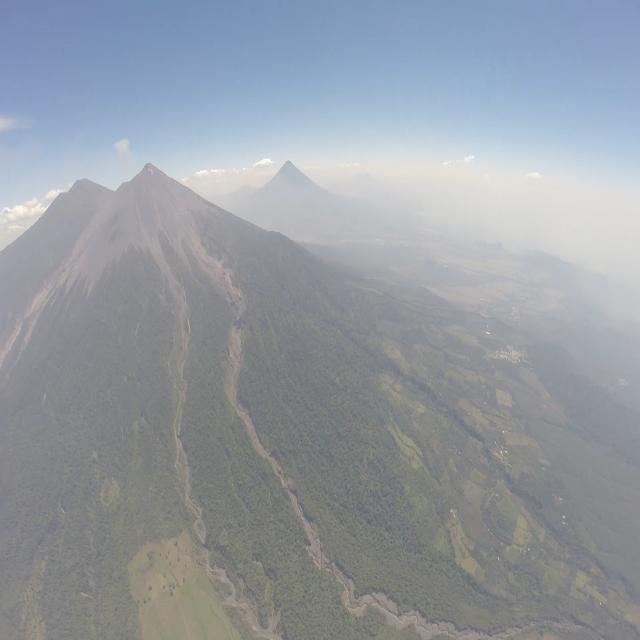Plume: (110, 134, 132, 160)
Summit: (118, 158, 179, 188)
